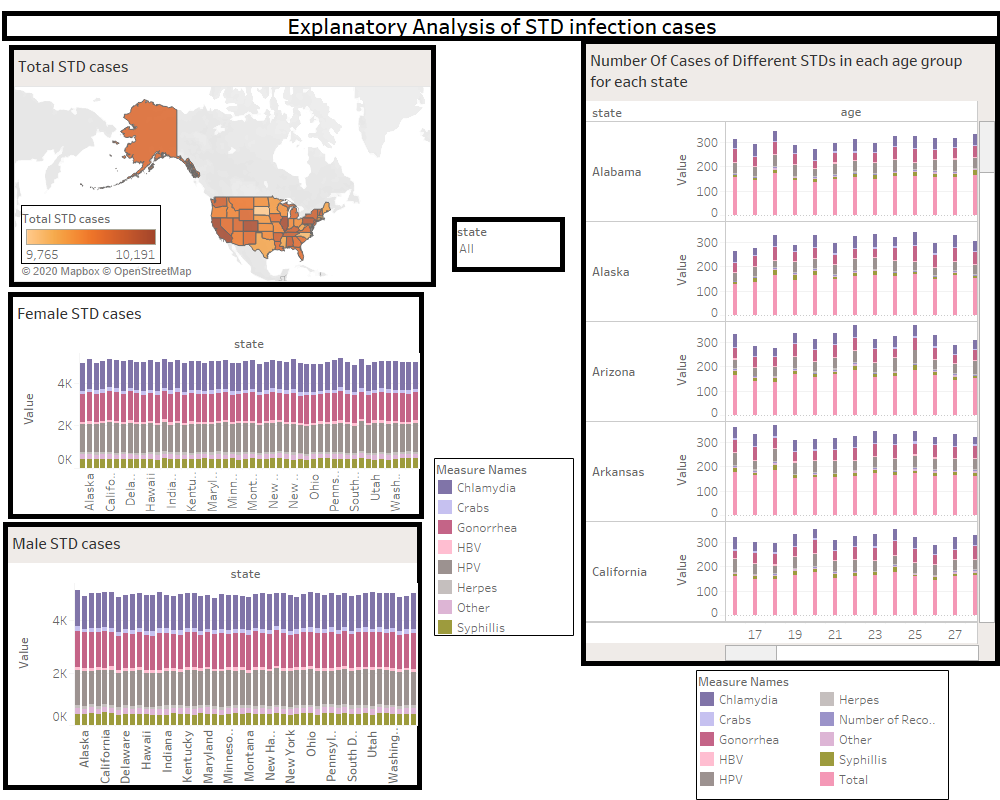

The dashboard page shown, as its layout file describes it:
{"tool":"tableau","page":{"name":"Dashboard 3-Exploratory Analysis","canvas":[1000,800],"ordinal":2},"visuals":[{"type":"text","box":[2,11,1000,30]},{"type":"worksheet","title":"Number Of Cases of Different STDs in each age group for each state","mark":"Bar","rows":["state"],"cols":["age"],"box":[581,39,419,627]},{"type":"worksheet","title":"Total STD cases","mark":"Automatic","box":[9,45,427,242]},{"type":"filter","title":"Number Of Cases of Different STDs in each age group for each state","param":"[federated.04majsd1vqnuyr16rlz6j04ogxer].[:Measure Names]","box":[834,69,159,30]},{"type":"legend","title":"Total STD cases","param":"[federated.1hxrank0zzjepz1bsj8x807ywtv0].[sum:Total STD cases:qk]","box":[21,205,140,59]},{"type":"filter","title":"Number Of Cases of Different STDs in each age group for each state","param":"[federated.04majsd1vqnuyr16rlz6j04ogxer].[none:state:nk]","box":[452,217,113,55]},{"type":"worksheet","title":"Female STD cases","mark":"Bar","cols":["state"],"box":[7,289,422,230]},{"type":"filter","title":"Female STD cases","param":"[federated.1bqv3tp170nig81gmivo51x70ksl].[:Measure Names]","box":[293,293,123,44]},{"type":"legend","title":"Female STD cases","param":"[federated.1bqv3tp170nig81gmivo51x70ksl].[:Measure Names]","box":[433,426,140,198]},{"type":"worksheet","title":"Male STD cases","mark":"Bar","cols":["state"],"box":[3,522,419,268]},{"type":"filter","title":"Male STD cases","param":"[federated.1bo1lxd0jlyzat15o8l7k0loqbsa].[:Measure Names]","box":[287,527,130,46]},{"type":"legend","title":"Number Of Cases of Different STDs in each age group for each state","param":"[federated.04majsd1vqnuyr16rlz6j04ogxer].[:Measure Names]","box":[696,670,253,130]}]}

Visuals, with their boxes in screenshot pixels (x1, y1, x2, y2), scaled from the page's 1000x800 canvas onto the 1000x800 screenshot:
text: [left=2, top=11, right=999, bottom=41]
"Number Of Cases of Different STDs in each age group for each state" worksheet (Bar marks): [left=581, top=39, right=999, bottom=666]
"Total STD cases" worksheet: [left=9, top=45, right=436, bottom=287]
"Number Of Cases of Different STDs in each age group for each state" filter: [left=834, top=69, right=993, bottom=99]
"Total STD cases" legend: [left=21, top=205, right=161, bottom=264]
"Number Of Cases of Different STDs in each age group for each state" filter: [left=452, top=217, right=565, bottom=272]
"Female STD cases" worksheet (Bar marks): [left=7, top=289, right=429, bottom=519]
"Female STD cases" filter: [left=293, top=293, right=416, bottom=337]
"Female STD cases" legend: [left=433, top=426, right=573, bottom=624]
"Male STD cases" worksheet (Bar marks): [left=3, top=522, right=422, bottom=790]
"Male STD cases" filter: [left=287, top=527, right=417, bottom=573]
"Number Of Cases of Different STDs in each age group for each state" legend: [left=696, top=670, right=949, bottom=799]
